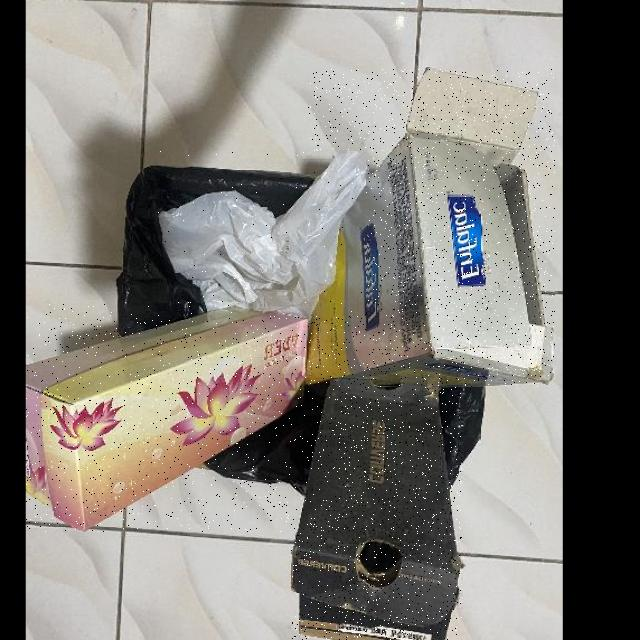paper: (308, 69, 555, 386), (26, 304, 306, 532), (292, 379, 462, 640)
plastic: (159, 151, 368, 316)
